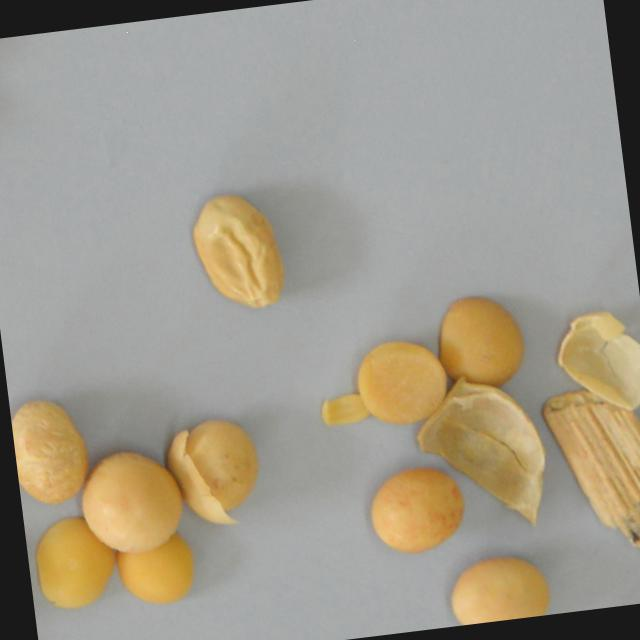cuerpos_extranos: (410, 370, 551, 538), (539, 383, 640, 595), (160, 411, 272, 537), (184, 187, 290, 316), (73, 445, 189, 553), (427, 289, 537, 394), (22, 509, 132, 614), (349, 330, 459, 434), (360, 458, 469, 562), (8, 391, 104, 507), (102, 514, 206, 618), (547, 304, 640, 420), (445, 549, 551, 626), (321, 389, 374, 433)
